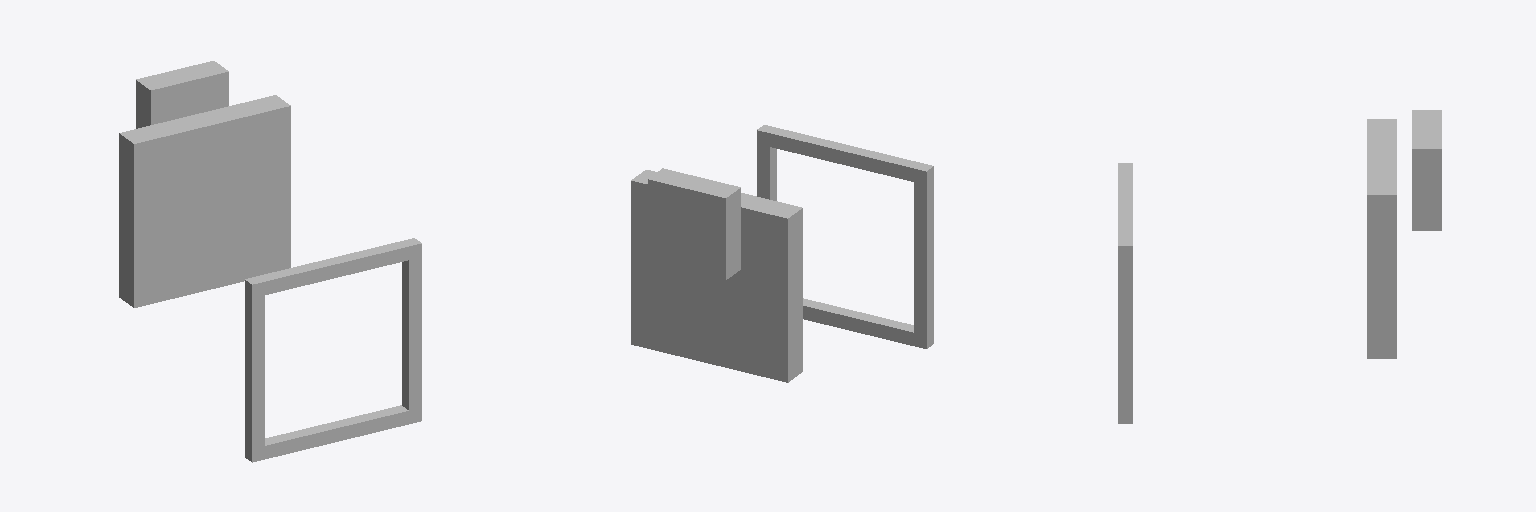
File: logistics_module.obj
3 views of the same model, side by side, from view 1: azimuth 30°, elevation 25°; view 2: azimuth 150°, elevation 25°; view 3: azimuth 270°, elevation 25° (orthographic).
Parts seen in each view (by area): view 1: base2, Shape1, Shape2, base1; view 2: base2, base1, Shape2, Shape1; view 3: base2, base1, Shape1, Shape2.
Boxes of the visible parts, <box> form: base2: <box>119,95,290,307</box>; Shape1: <box>245,238,421,462</box>; Shape2: <box>258,241,408,458</box>; base1: <box>136,61,228,128</box>; base2: <box>631,170,802,382</box>; base1: <box>648,168,740,279</box>; Shape2: <box>770,128,919,345</box>; Shape1: <box>757,125,933,348</box>; base2: <box>1367,119,1396,358</box>; base1: <box>1412,110,1441,230</box>; Shape1: <box>1118,163,1132,423</box>; Shape2: <box>1118,170,1132,239</box>.
Size of the model in its own units: 0.8125 by 1.16 by 1.34.